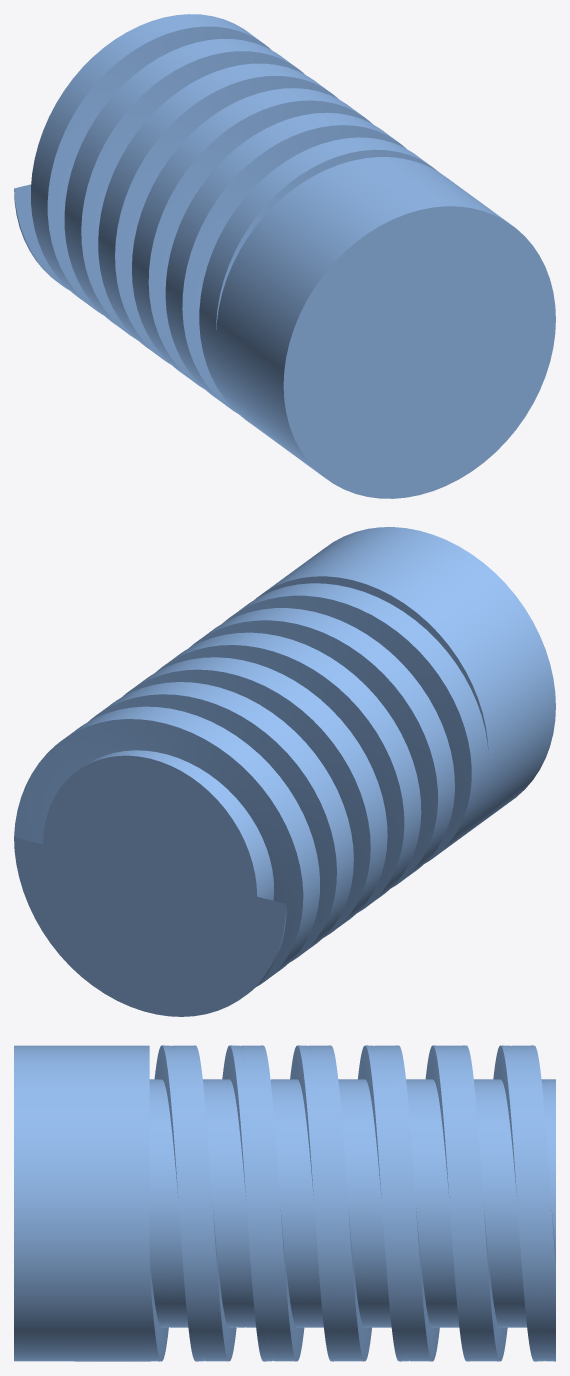
File: threads-square.glb
3 renders of one model, top to bottom at view 1: azimuth 30°, elevation 25°; view 2: azimuth 150°, elevation 25°; view 3: azimuth 270°, elevation 25°, orthographic.
Parts seen in each view (by area): view 1: SOLID; view 2: SOLID; view 3: SOLID.
Part boxes in pixels (left/top/right/bottom): SOLID: left=14, top=14, right=555, bottom=498; SOLID: left=14, top=527, right=555, bottom=1016; SOLID: left=14, top=1045, right=555, bottom=1361.
Size of the model in its own units: 14 by 14 by 24.
